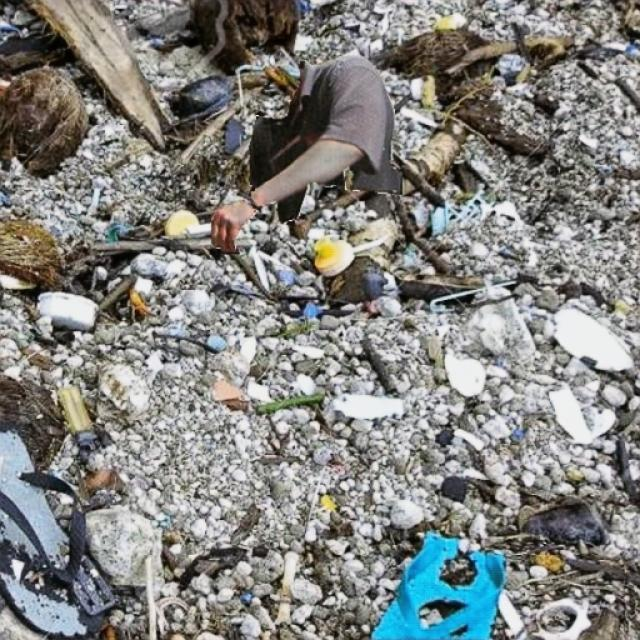Person in Rubble: (211, 55, 401, 253)
